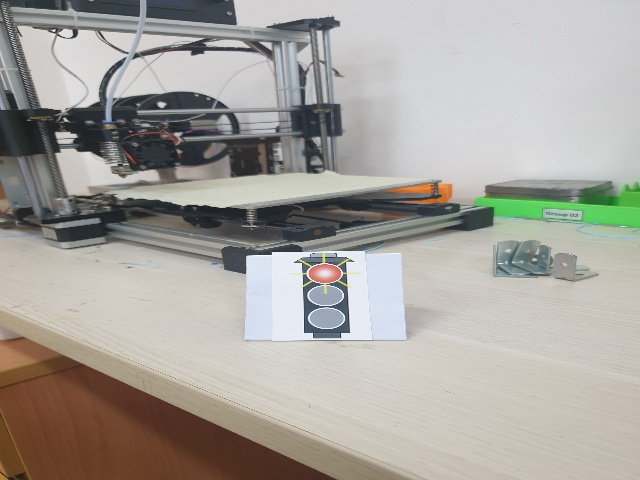Red Light: (291, 251, 358, 338)
